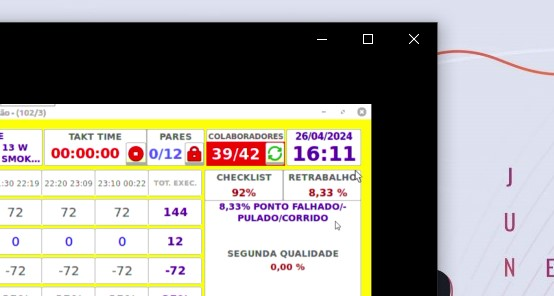takt_time: (48, 131, 127, 163)
